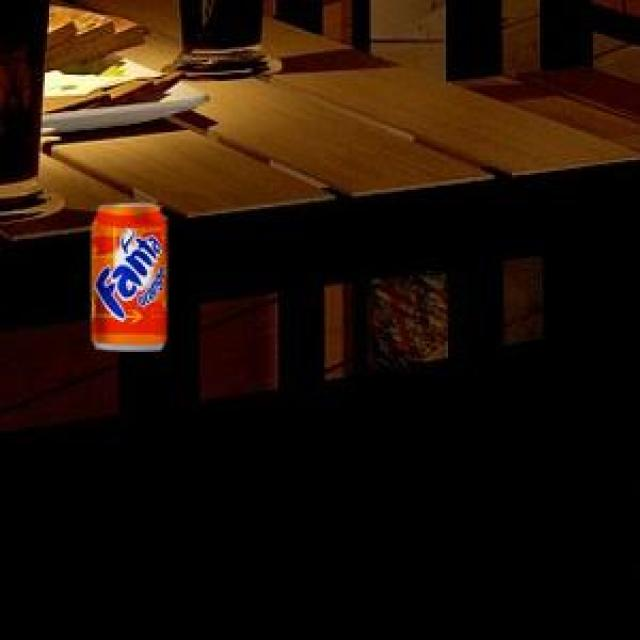logam: (89, 202, 163, 347)
